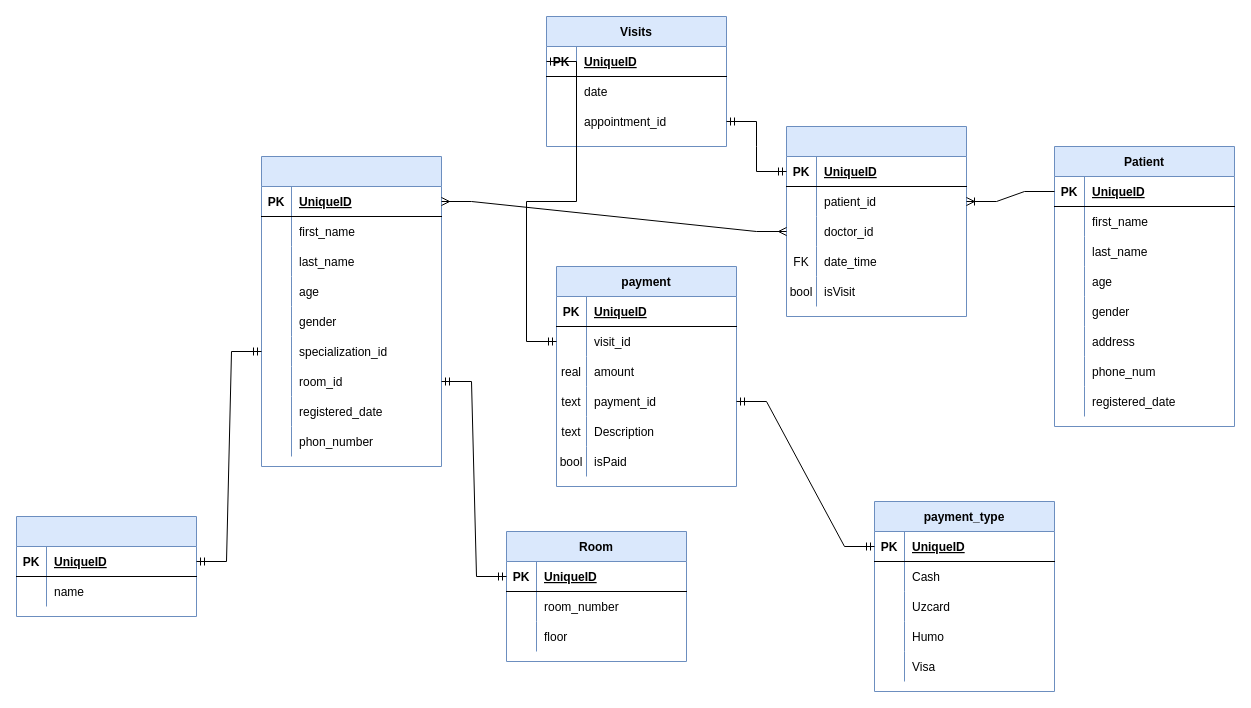
The diagram is 1251 pixels wide and 708 high, and some of its shapes have lost their labels. The shapes that lost their labels are listed below. From the top down, each one's box as (x1, y1, x2, y2) in pixels, then its label:
(786, 126, 966, 316): Appointment
(260, 156, 442, 466): Doctor
(16, 516, 196, 616): specialization
